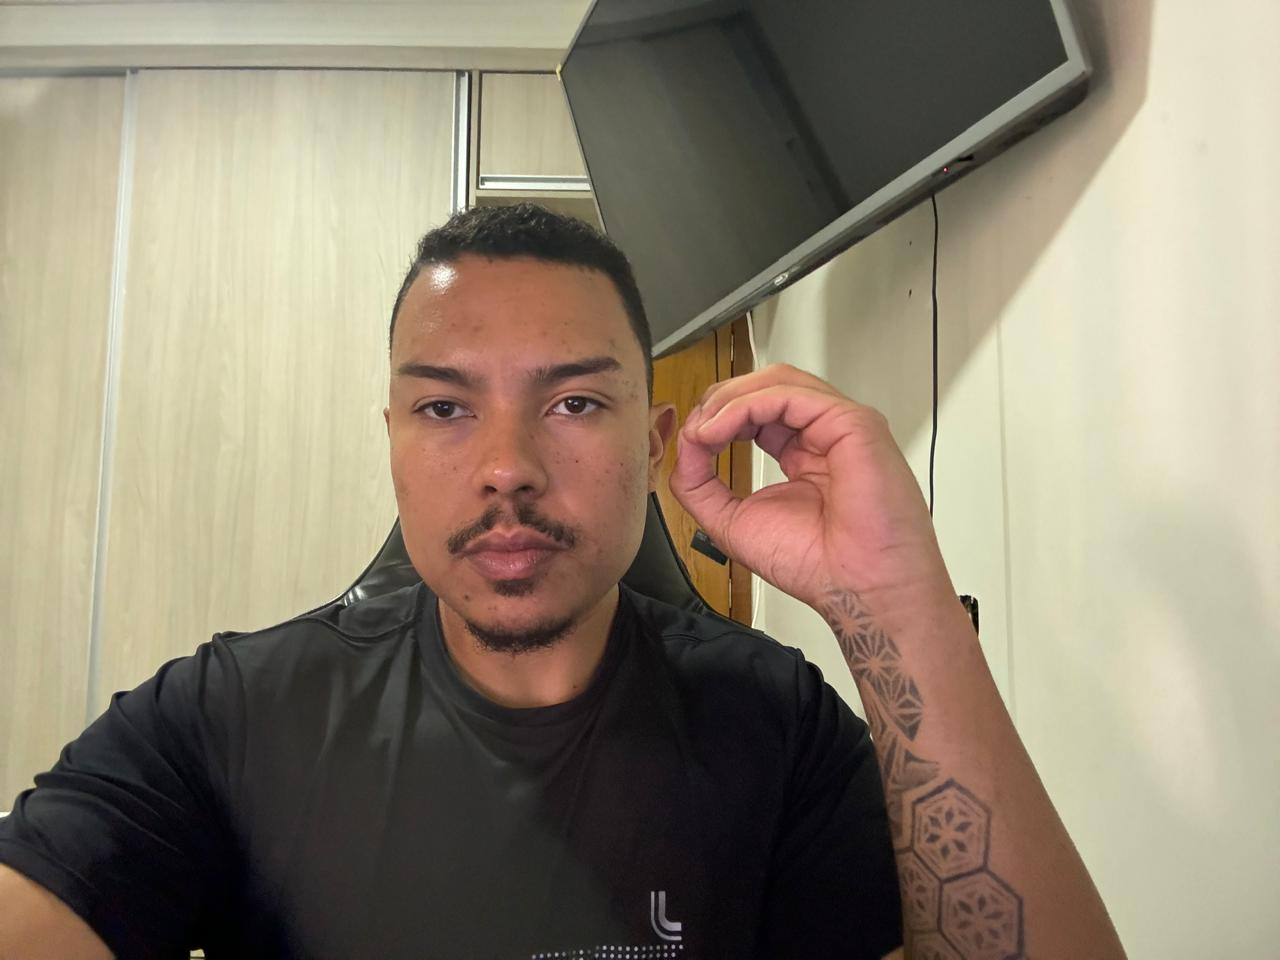o: (658, 355, 957, 604)
